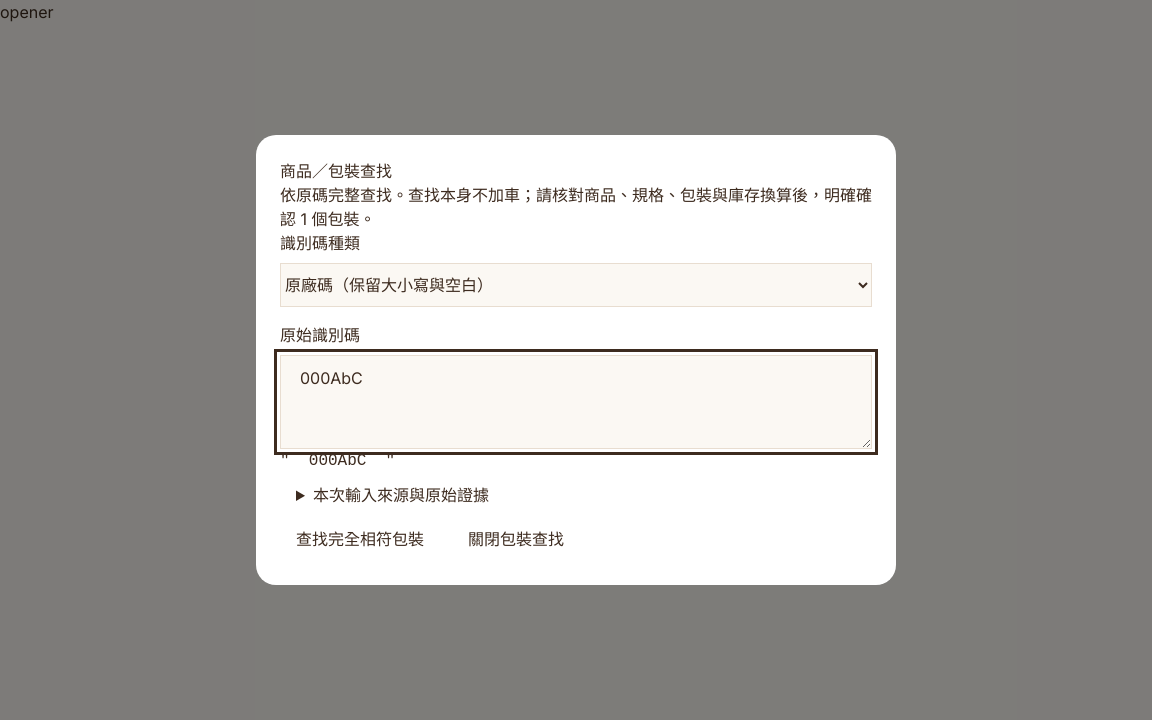
package lookup POS confirmation dialog › requires manual confirmation and adds exactly the freshly resolved package quantity once
Step 1. Click the button "查找完全相符包裝" → click(360, 539), box x1=280 y1=517 x2=440 y2=561
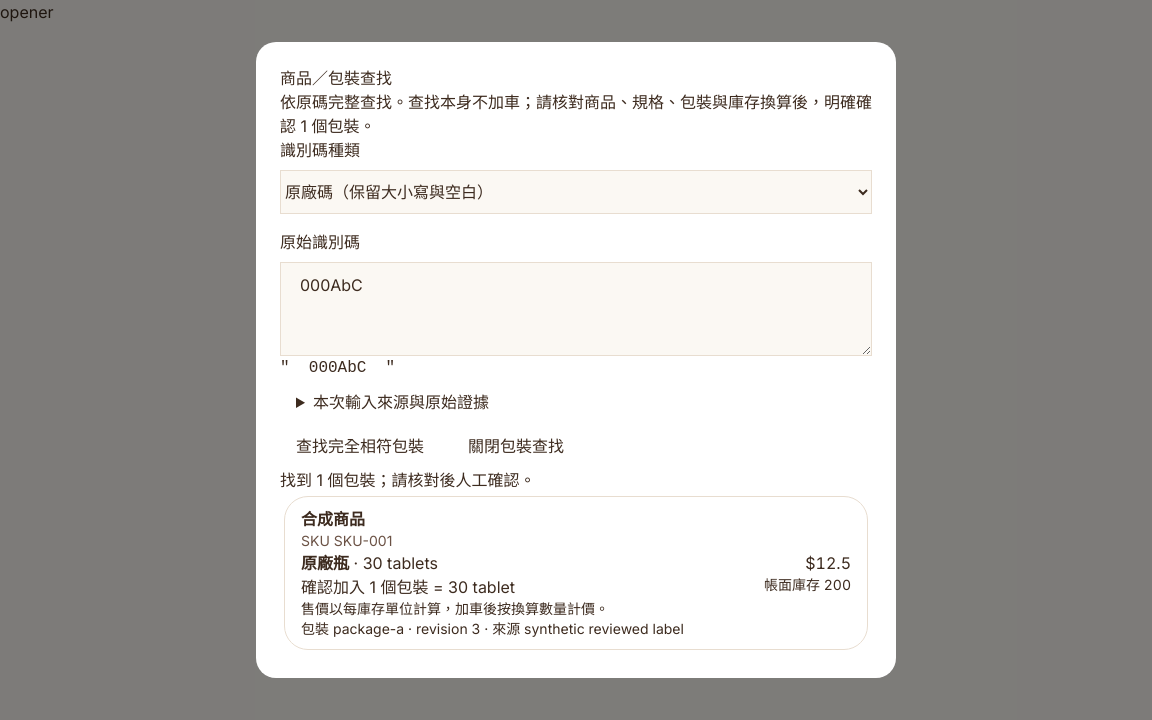
Step 2. Double-click the button "原廠瓶" → (333, 519), box x1=284 y1=496 x2=868 y2=650
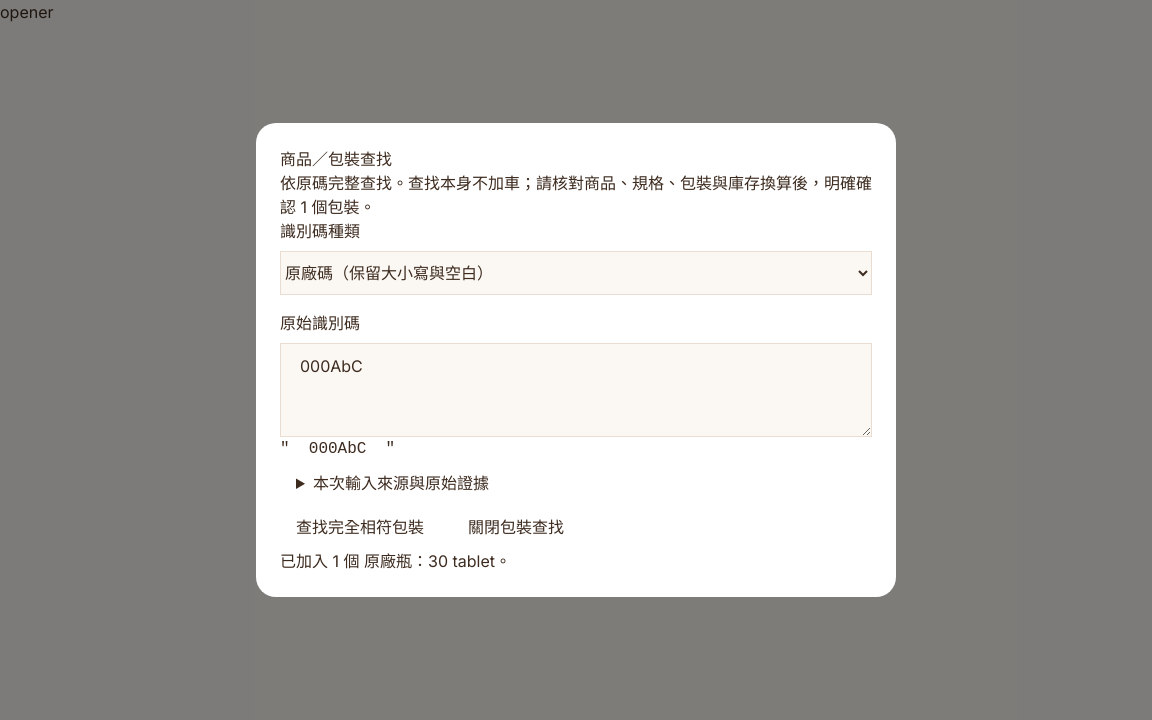
Now the message shows "已加入 1 個 原廠瓶：30 tablet", box x1=280 y1=551 x2=511 y2=571
